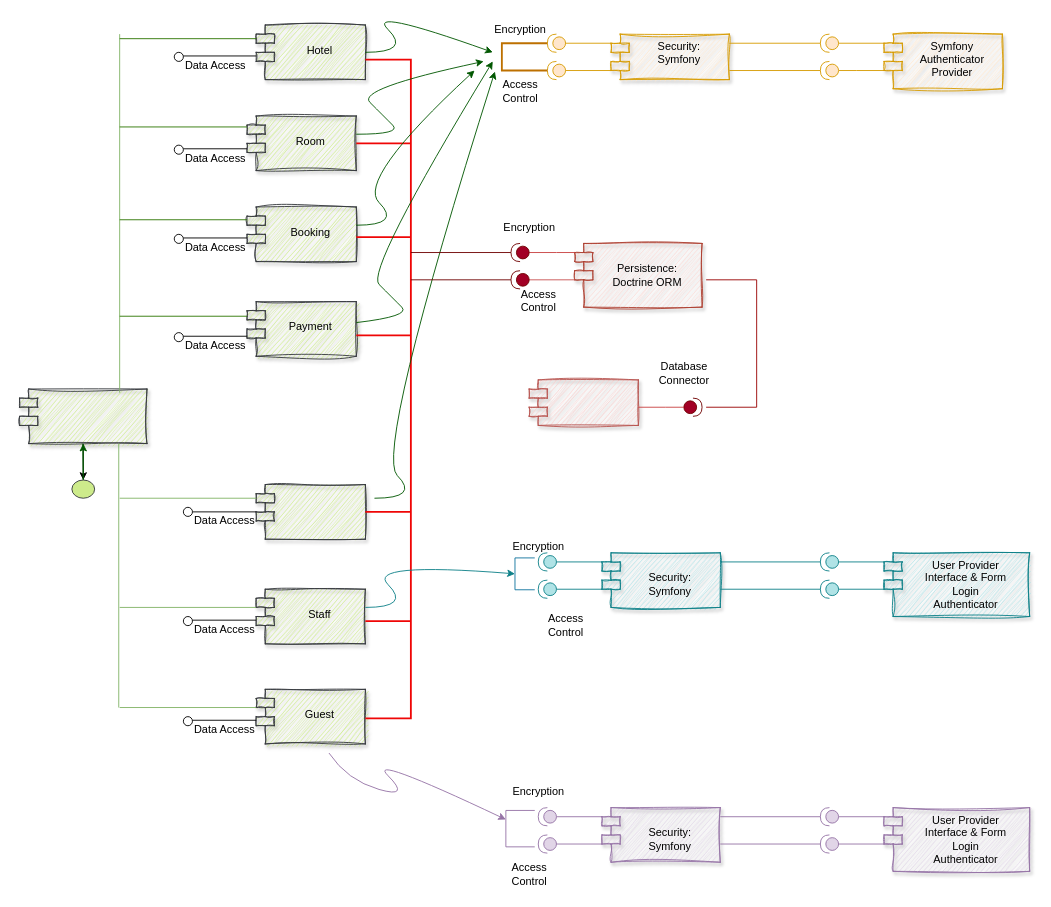
This 1051x907 diagram has some shape labels left out. Each missing label, with the centre of its shape:
Database: point (584, 403)
Hotel Management System: point (83, 417)
Services: point (311, 513)
